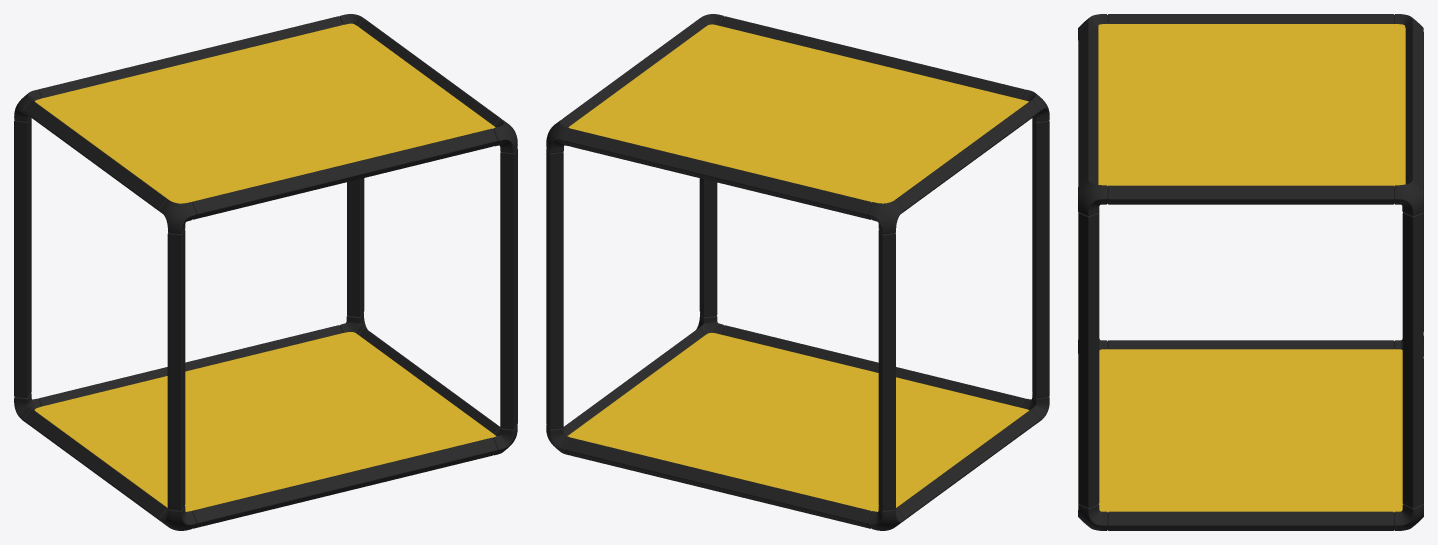
3 renders of one model, left to right at view 1: azimuth 30°, elevation 25°; view 2: azimuth 150°, elevation 25°; view 3: azimuth 270°, elevation 25°, orthographic. The views are drawn at different scales.
Visible parts, largest first — view 1: 479x374x420; view 2: 479x374x420; view 3: 479x374x420.
Part boxes in pixels (x1=…): 479x374x420: x1=14, y1=14, x2=517, y2=530; 479x374x420: x1=546, y1=14, x2=1049, y2=530; 479x374x420: x1=1078, y1=14, x2=1423, y2=530.
Size of the model in its own units: 0.5567 by 0.4976 by 0.4513.
